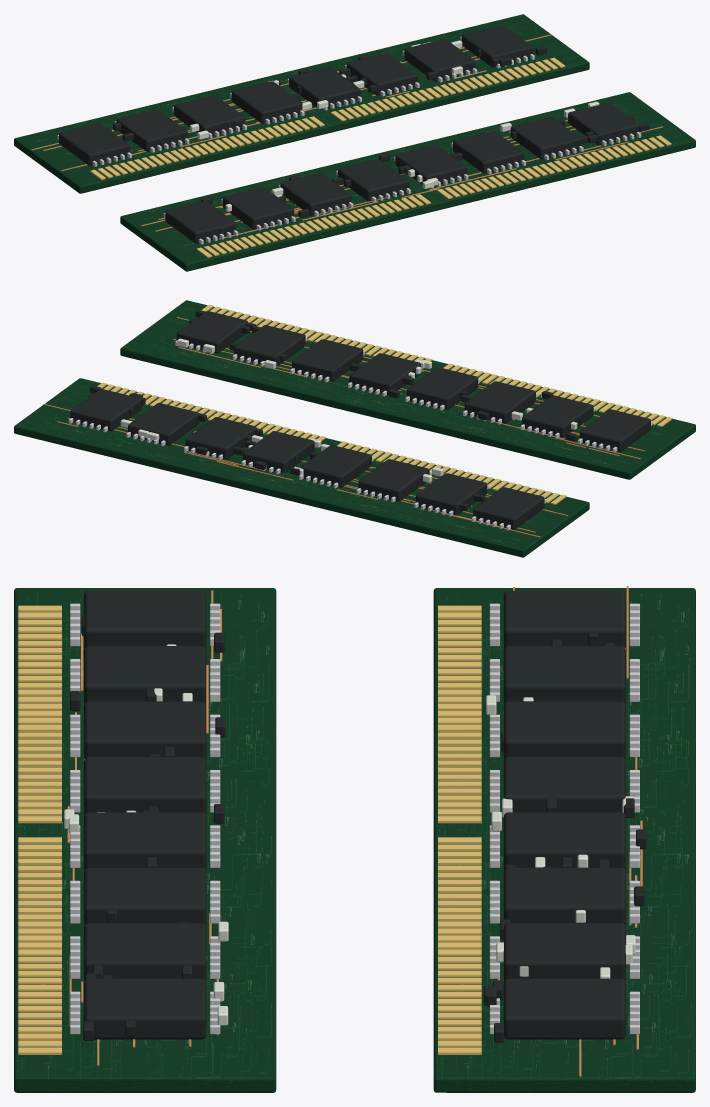
The model's file is ram-modules.glb.
3 views of the same model, one above another, from view 1: azimuth 30°, elevation 25°; view 2: azimuth 150°, elevation 25°; view 3: azimuth 270°, elevation 25° (orthographic). The views are drawn at different scales.
Parts seen in each view (by area): view 1: DIMM PCB (×2), DRAM IC (×16); view 2: DIMM PCB (×2), DRAM IC (×16); view 3: DRAM IC (×16), DIMM PCB (×2).
Boxes of the visible parts, x1,y1,x2,y2 form: DIMM PCB (×2): [14, 14, 695, 271]; DRAM IC (×16): [59, 25, 639, 243]; DIMM PCB (×2): [14, 300, 695, 557]; DRAM IC (×16): [70, 311, 650, 529]; DRAM IC (×16): [84, 590, 625, 1039]; DIMM PCB (×2): [14, 588, 695, 1092].
Bounding box in the file's own units: 0.133 × 0.005 × 0.078.
Materials: 5 (5 with a texture image).
